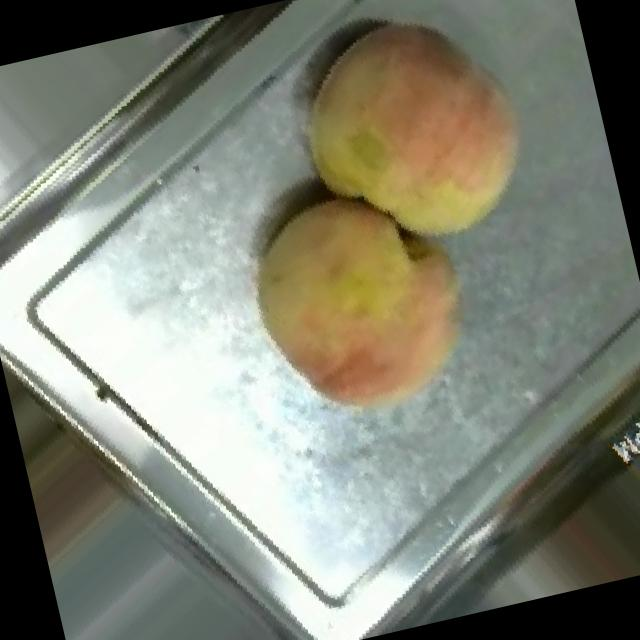Fruit: (234, 0, 585, 309), (200, 134, 522, 466), (0, 331, 163, 609)
